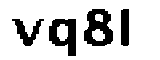8: (82, 6, 115, 49)
l: (117, 7, 136, 49)
q: (47, 16, 80, 60)
v: (8, 15, 45, 49)
